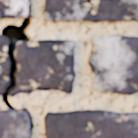brick: (89, 35, 137, 94), (45, 110, 137, 137), (44, 0, 137, 21), (0, 110, 30, 137), (0, 0, 29, 18)
broken_brick: (11, 38, 76, 97), (0, 36, 8, 95)
crack: (0, 2, 34, 135)
